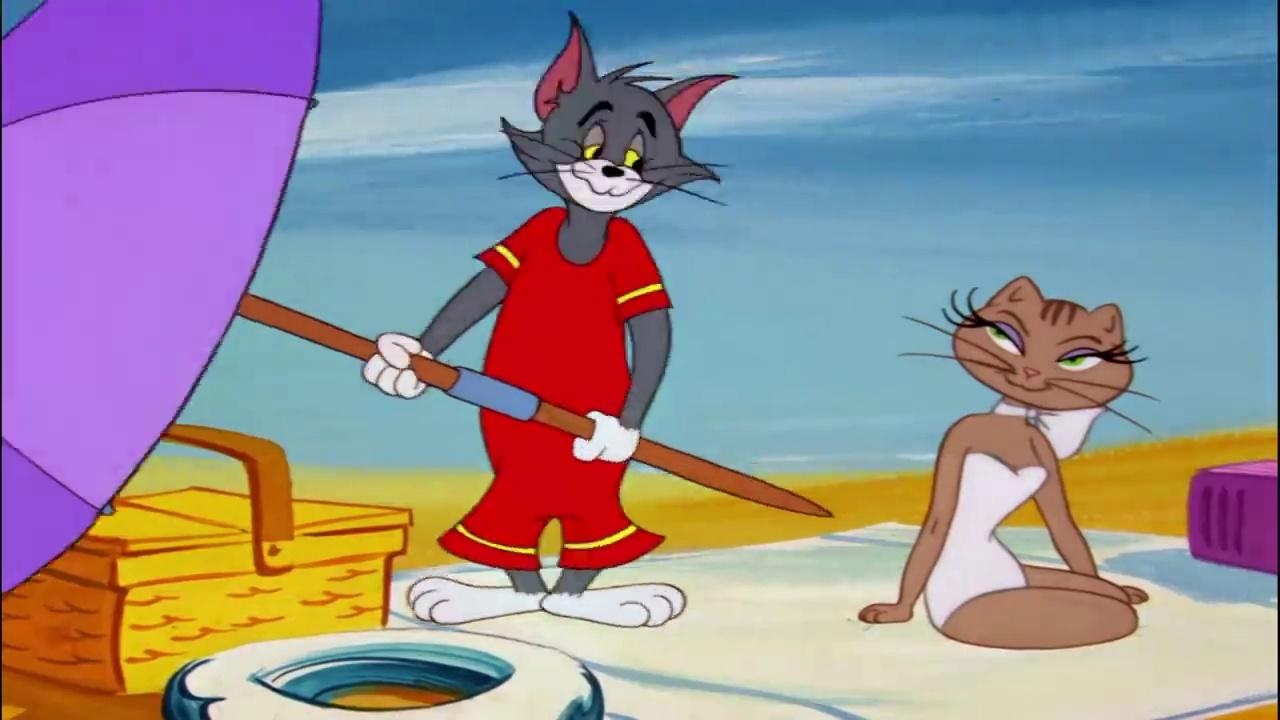Tom: (360, 7, 743, 627)
